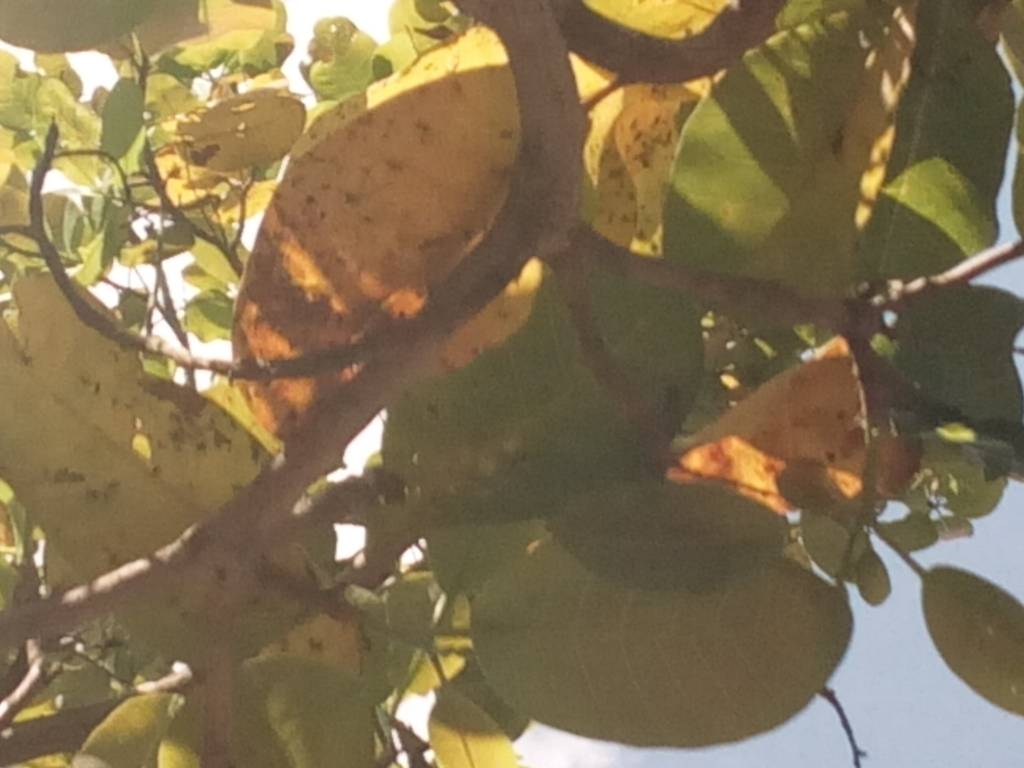Anthracnose: (231, 64, 523, 440), (1, 266, 246, 550), (683, 335, 867, 511)
